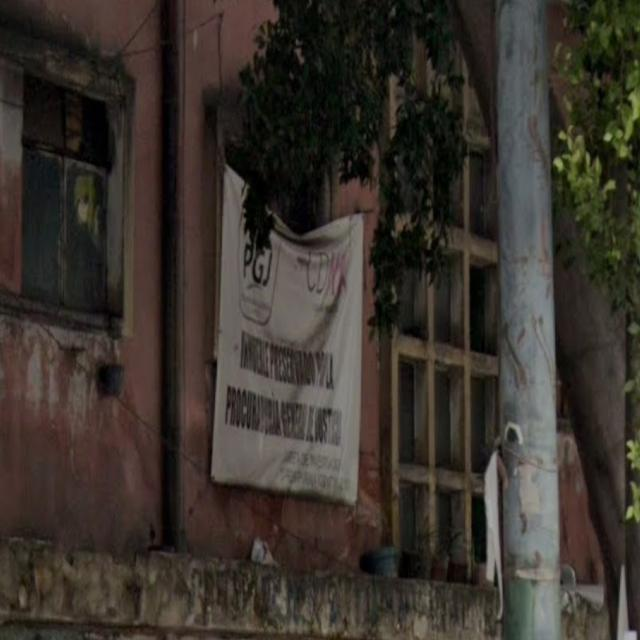stamps: (211, 166, 363, 503)
